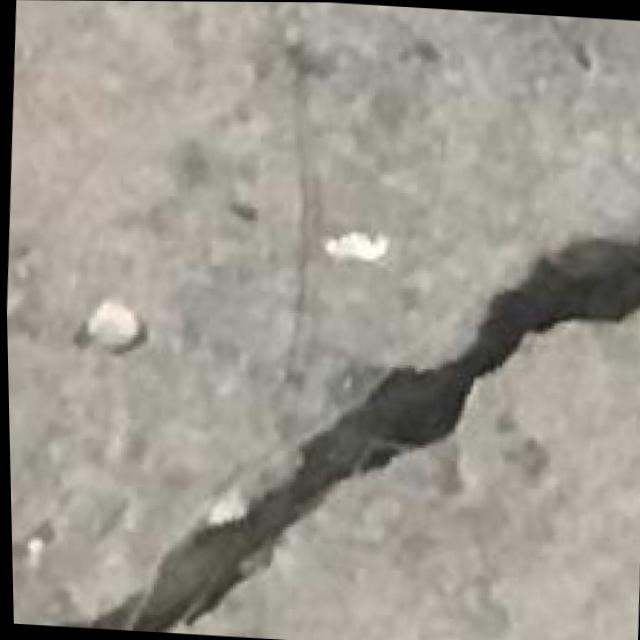Crack: (14, 202, 640, 632)
